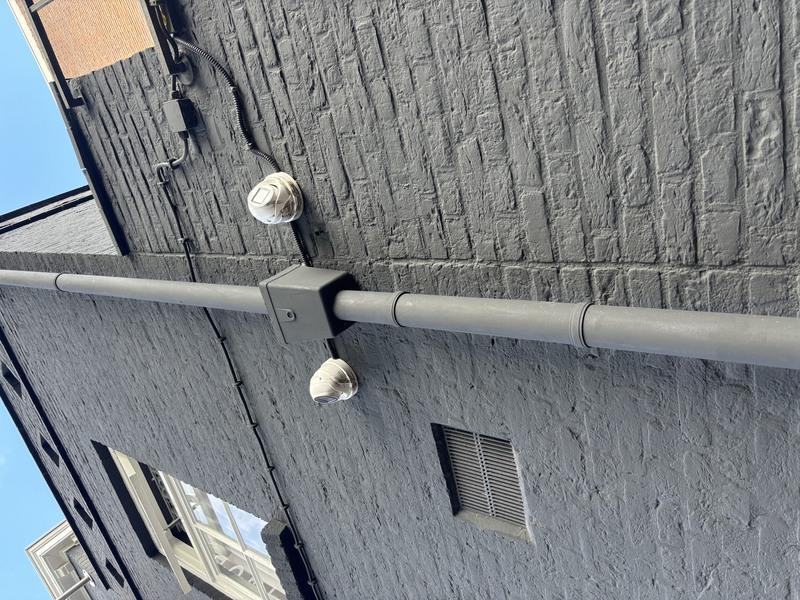turret: (184, 295, 245, 365), (373, 241, 435, 307)
